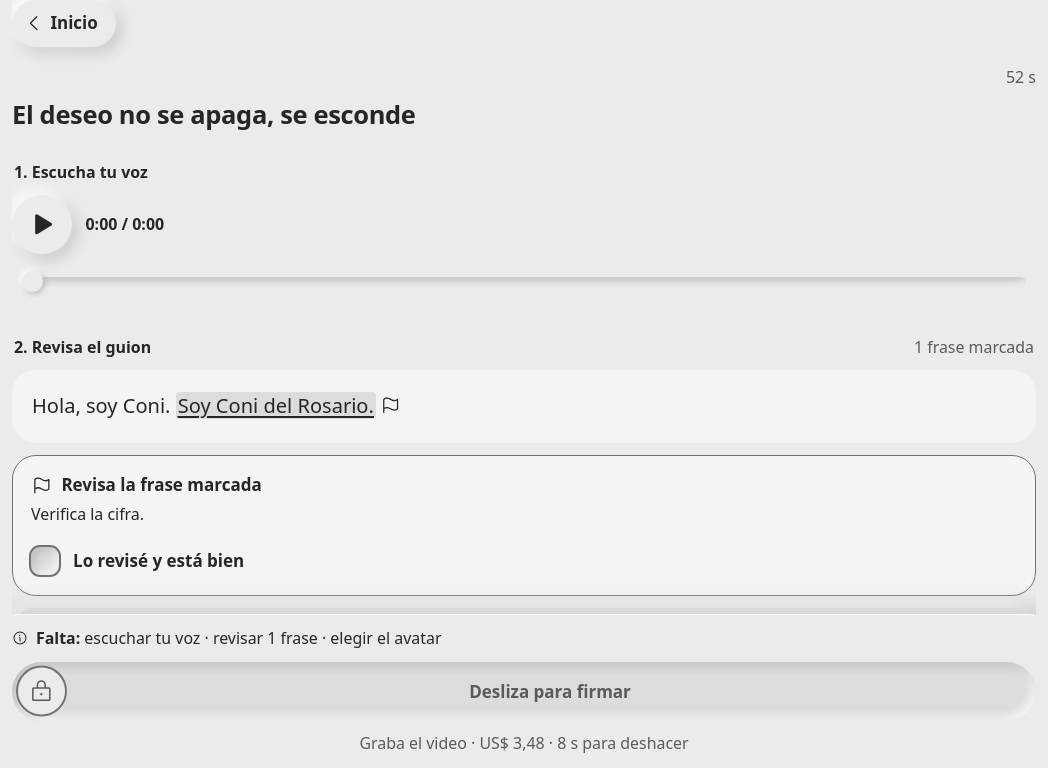
PantallaGuion: el orden de v6 › shows the script in a reading panel, marks a finding's phrase and links it to its panel
Expected: the text "1 frase marcada" is shown, left=914, top=337, right=1034, bottom=358
Click the checkbox labelled "Lo revisé y está bien" at (138, 561), box left=31, top=547, right=244, bottom=575
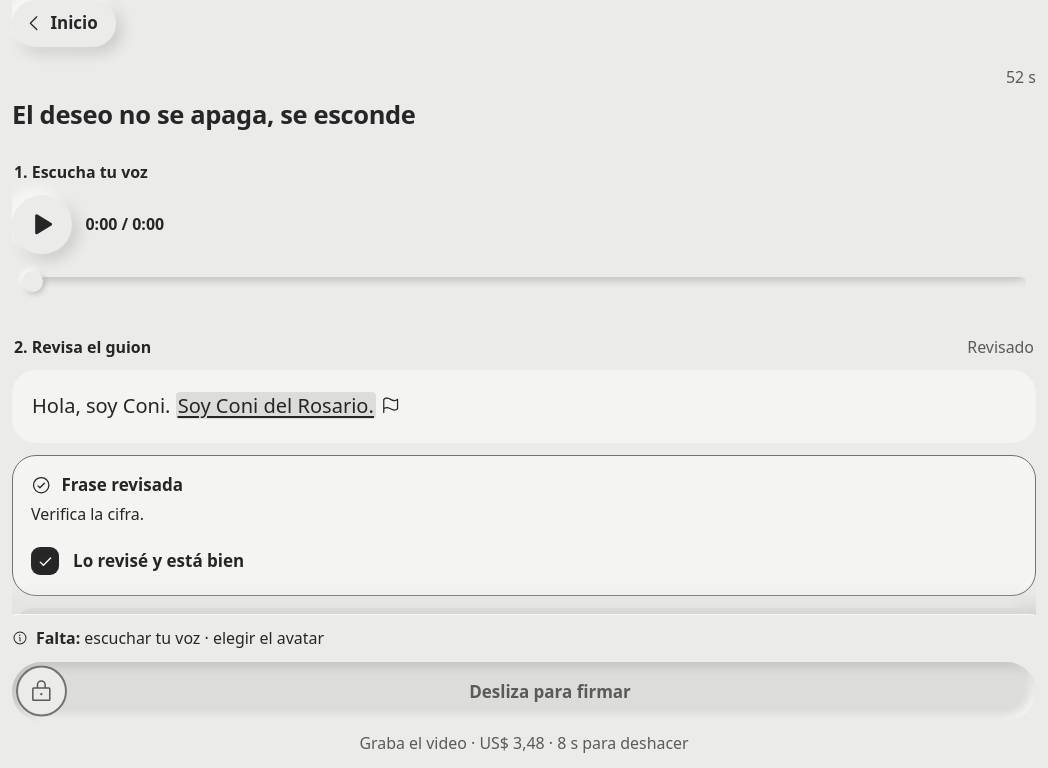
Expected: the text "Revisado" is shown, left=967, top=337, right=1034, bottom=358
Expected: the text "Frase revisada" is shown, left=31, top=472, right=183, bottom=496
